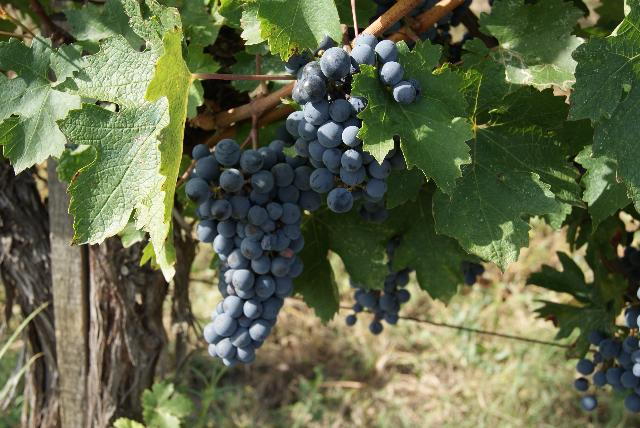grapes: (185, 139, 334, 366), (284, 34, 421, 222)
